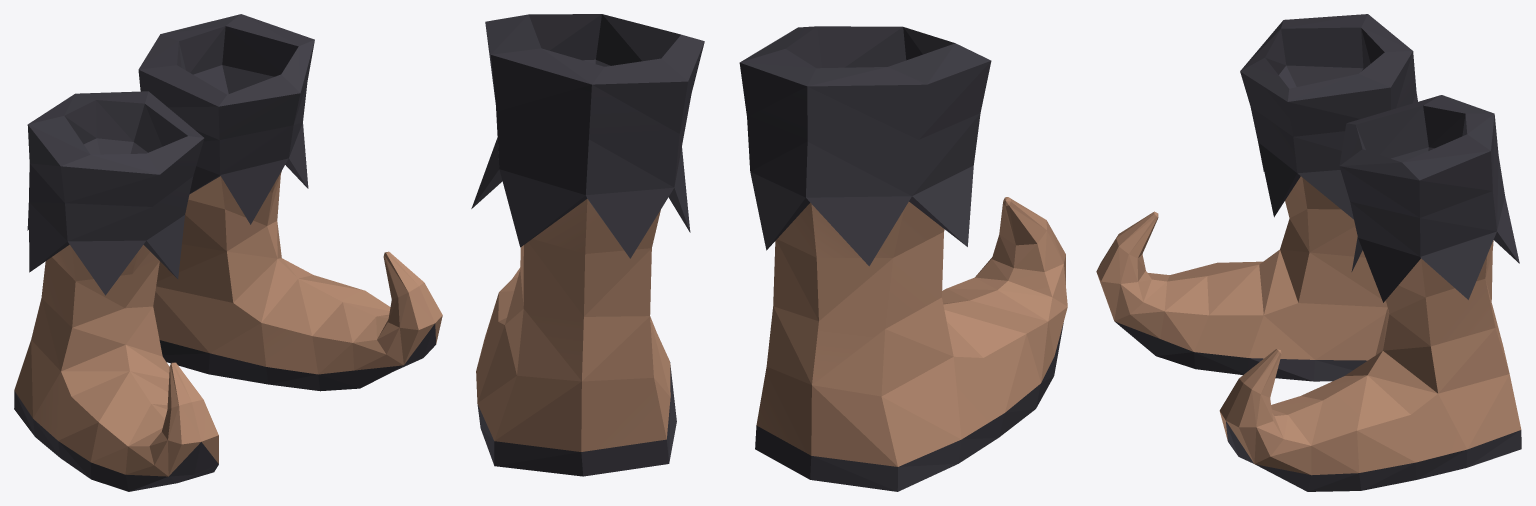
File: bootsPerformerDisplay.fbx
3 views of the same model, side by side, from view 1: azimuth 30°, elevation 25°; view 2: azimuth 150°, elevation 25°; view 3: azimuth 270°, elevation 25° (orthographic). The views are drawn at different scales.
Visible parts, largest first — view 1: bootsPerformerDisplay; view 2: bootsPerformerDisplay; view 3: bootsPerformerDisplay.
Boxes of the visible parts, x1,y1,x2,y2 form: bootsPerformerDisplay: (14,14,442,491); bootsPerformerDisplay: (471,14,1067,491); bootsPerformerDisplay: (1096,14,1521,491).
Size of the model in its own units: 1.53 by 1.2 by 1.49.
Materials: 1 (1 with a texture image).
